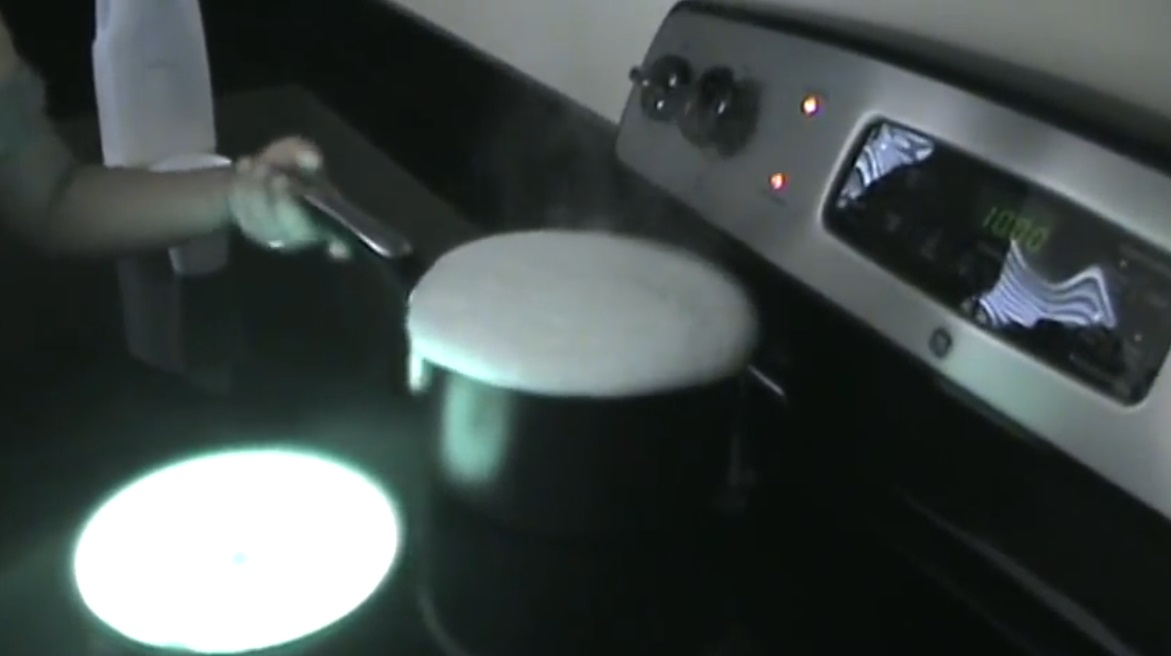Boiled: (379, 228, 757, 568)
